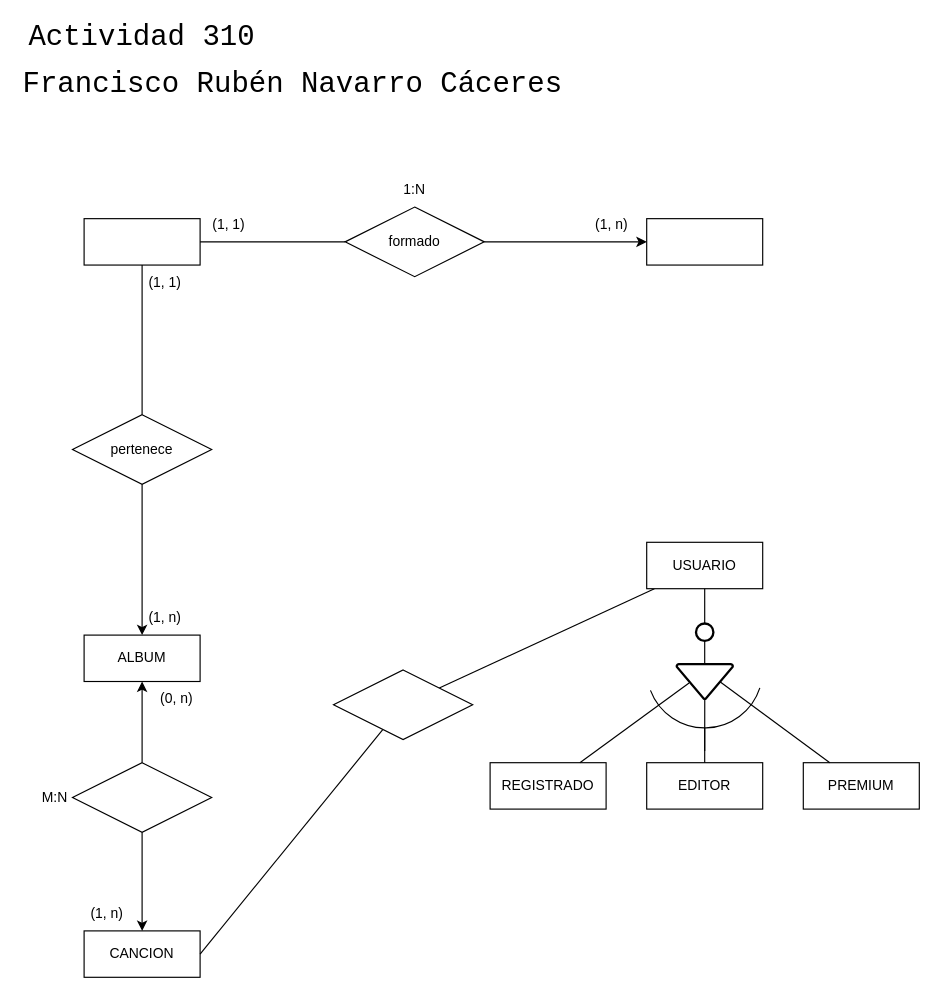
This 940x998 diagram has some shape labels left out. Each missing label, with the centre of its shape:
"escucha" goes at pixel 402 704.
"GRUPO" goes at pixel 141 241.
"MUSICO" goes at pixel 704 241.
"tiene" goes at pixel 141 797.
